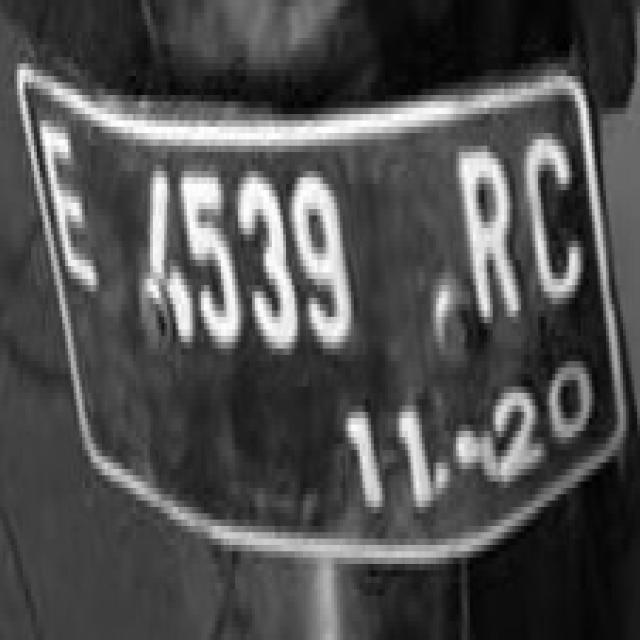license-plat: (27, 76, 631, 568)
